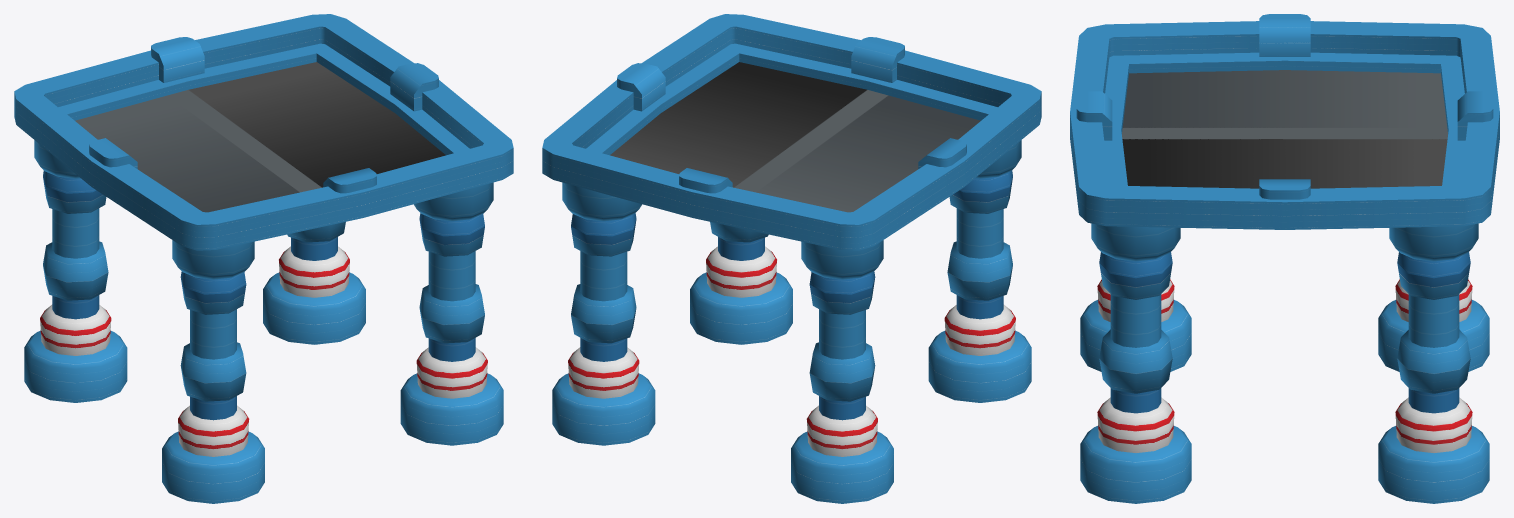
Rendered from services_dais.glb.
3 renders of one model, left to right at view 1: azimuth 30°, elevation 25°; view 2: azimuth 150°, elevation 25°; view 3: azimuth 270°, elevation 25°, orthographic. The views are drawn at different scales.
Parts seen in each view (by area): view 1: template-floor-layer-raised; view 2: template-floor-layer-raised; view 3: template-floor-layer-raised.
Boxes of the visible parts, box(x1,y1,x2,y2) form: template-floor-layer-raised: box(14, 14, 513, 503); template-floor-layer-raised: box(542, 14, 1041, 503); template-floor-layer-raised: box(1070, 14, 1499, 503).
Bounding box in the file's own units: 4.2 × 3.4 × 4.2.
1 material, 1 textured.
